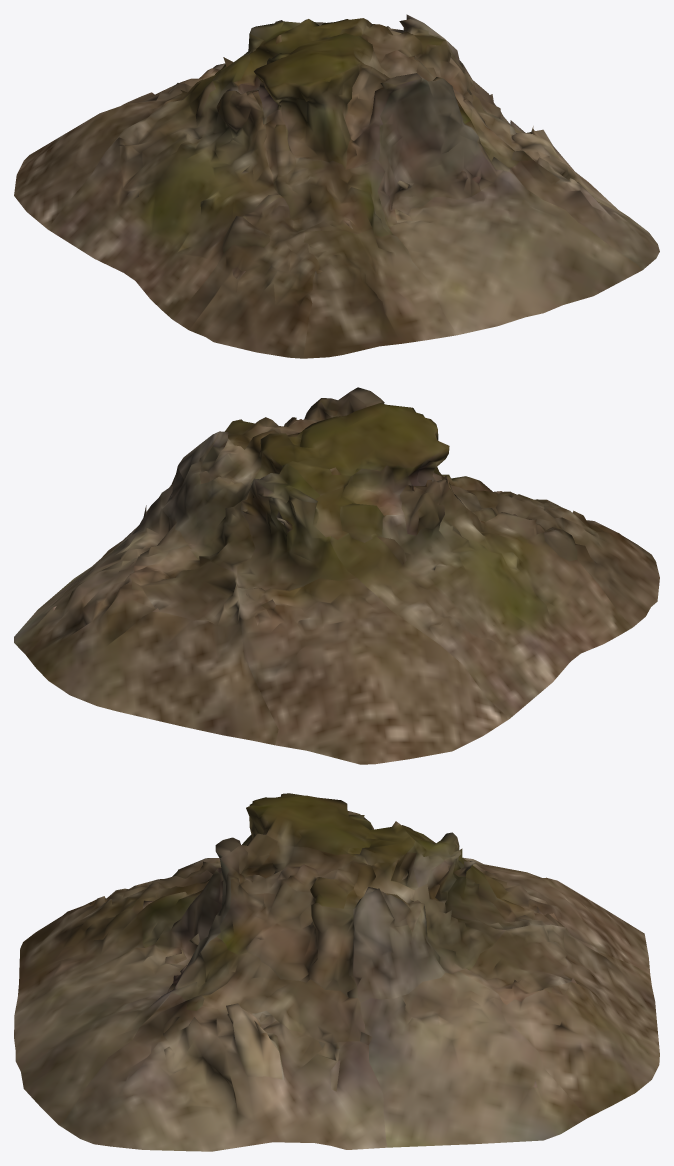
The model's file is tree_stump_01_lod2.glb.
The picture shows the model from 3 angles, top to bottom: view 1: azimuth 30°, elevation 25°; view 2: azimuth 150°, elevation 25°; view 3: azimuth 270°, elevation 25°; orthographic projection. The views are drawn at different scales.
Visible parts, largest first — view 1: tree_stump_01; view 2: tree_stump_01; view 3: tree_stump_01.
Boxes of the visible parts, x1,y1,x2,y2 form: tree_stump_01: (14, 14, 659, 358); tree_stump_01: (14, 387, 659, 764); tree_stump_01: (14, 793, 659, 1151).
Size of the model in its own units: 1.43 by 0.5709 by 1.59.
Materials: 1 (1 with a texture image).
